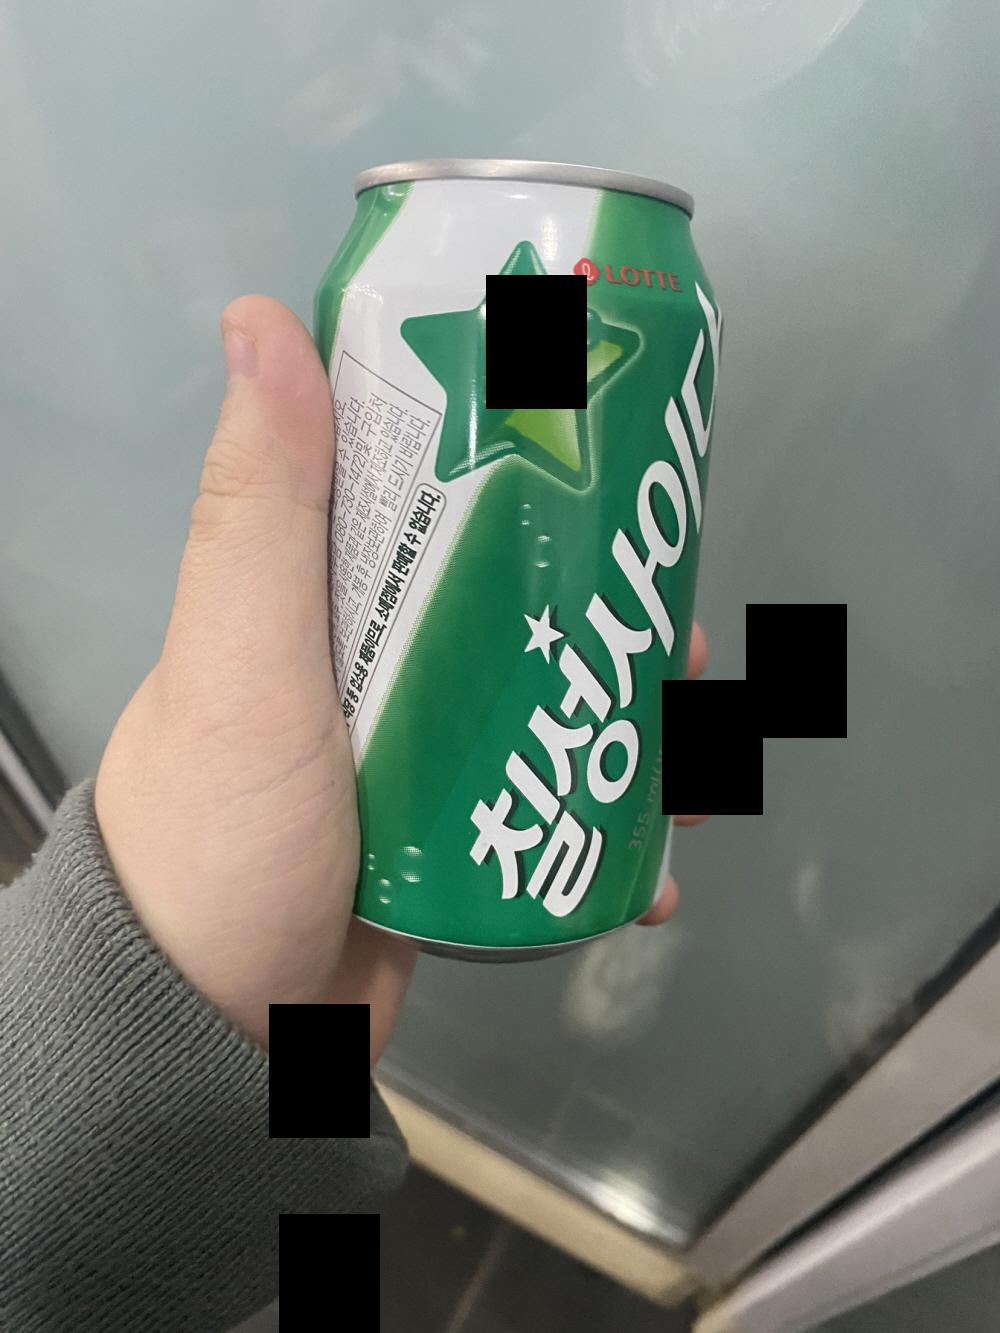chilsungcider: (321, 157, 709, 957)
